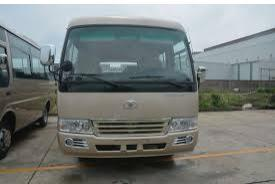bus: (55, 13, 201, 164)
